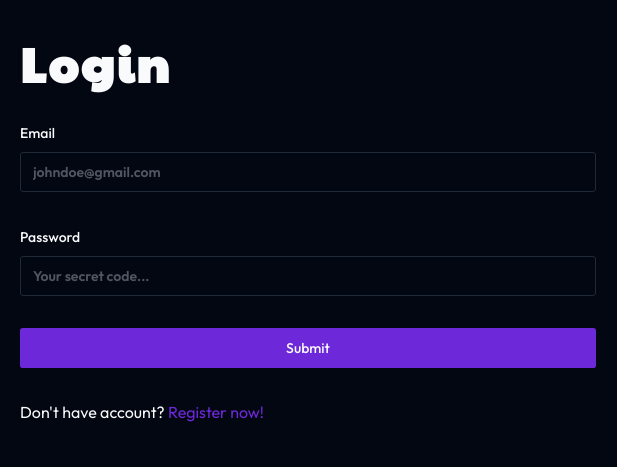
Test: Login spec › should display email validation on email input error
Click the button "Submit": point(308, 348) [20, 328, 596, 368]
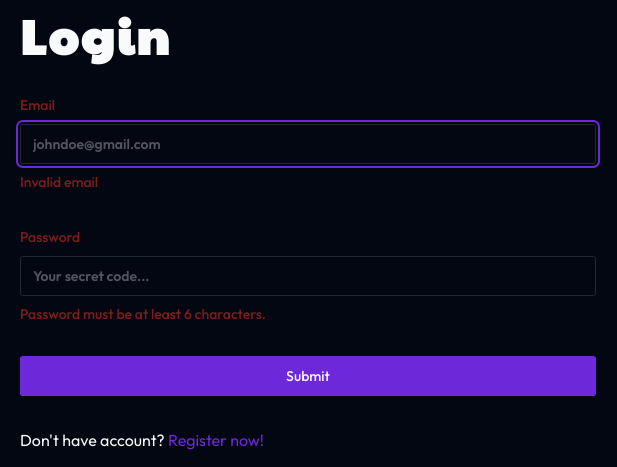
Check: the text "Invalid email" is shown, box [20, 173, 98, 191]
